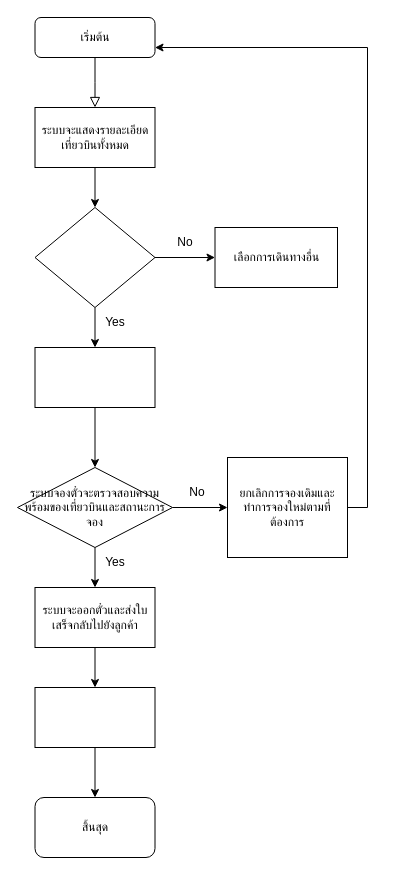
The diagram is 393 pixels wide and 875 high, and some of its shapes have lost their labels. Here are the shapes that lost their labels. From the top down, the box of each, then its label:
(34, 206, 155, 308): ลูกค้าเลือกสายการบินที่ต้องการ
(34, 346, 155, 408): ระบบจะส่งข้อมูลการจองไปยังระบบการจองตั๋ว
(34, 686, 155, 748): ลูกค้าสามารถเลือกที่นั่งที่ต้องการบนเครื่องบิน
